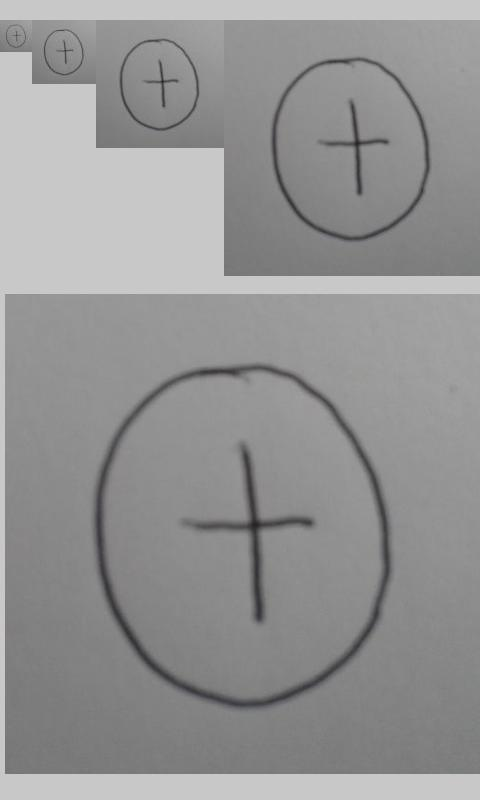button: (92, 363, 392, 709), (270, 56, 431, 242), (119, 38, 200, 131), (43, 29, 84, 76), (5, 24, 27, 49)
